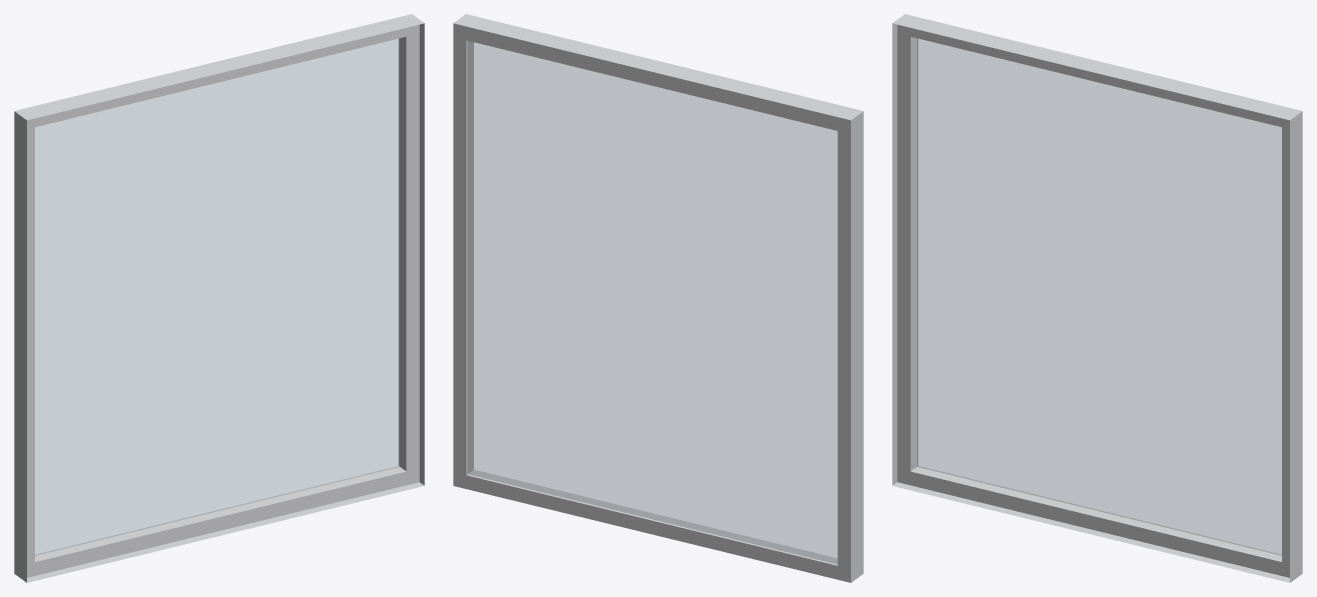
Rendered from win_punched_modern_1.8x2.0.glb.
The picture shows the model from 3 angles, left to right: view 1: azimuth 30°, elevation 25°; view 2: azimuth 150°, elevation 25°; view 3: azimuth 330°, elevation 25°; orthographic projection.
Parts seen in each view (by area): view 1: win_punched; view 2: win_punched; view 3: win_punched.
Part boxes in pixels (x1,y1,x2,y2): win_punched: [14, 14, 424, 582]; win_punched: [453, 14, 863, 582]; win_punched: [892, 14, 1302, 582].
Bounding box in the file's own units: 1.8 × 2 × 0.1.
